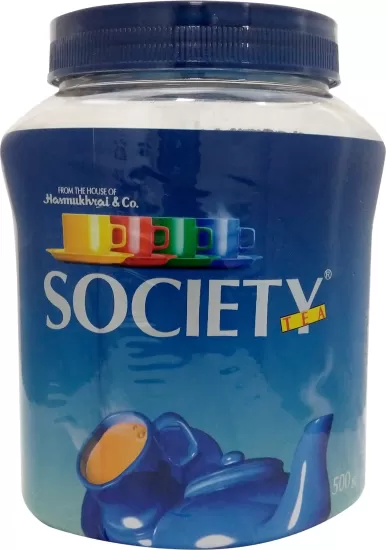society: (4, 123, 378, 543)
